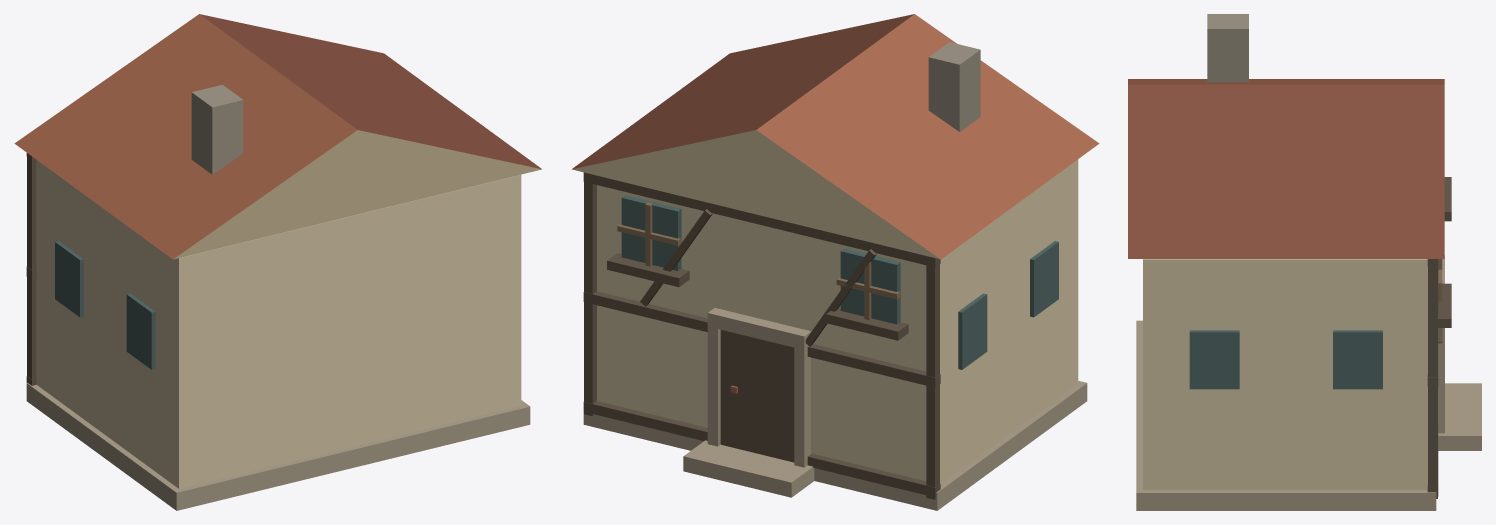
Rendered from Town_HouseB.fbx.
The picture shows the model from 3 angles, left to right: view 1: azimuth 30°, elevation 25°; view 2: azimuth 150°, elevation 25°; view 3: azimuth 270°, elevation 25°; orthographic projection.
Parts seen in each view (by area): view 1: Town_HouseB; view 2: Town_HouseB; view 3: Town_HouseB.
Part boxes in pixels (<box>): Town_HouseB: <box>14,14,541,510</box>; Town_HouseB: <box>572,14,1099,510</box>; Town_HouseB: <box>1128,14,1481,510</box>.
Size of the model in its own units: 5.13 by 4.78 by 4.26.
